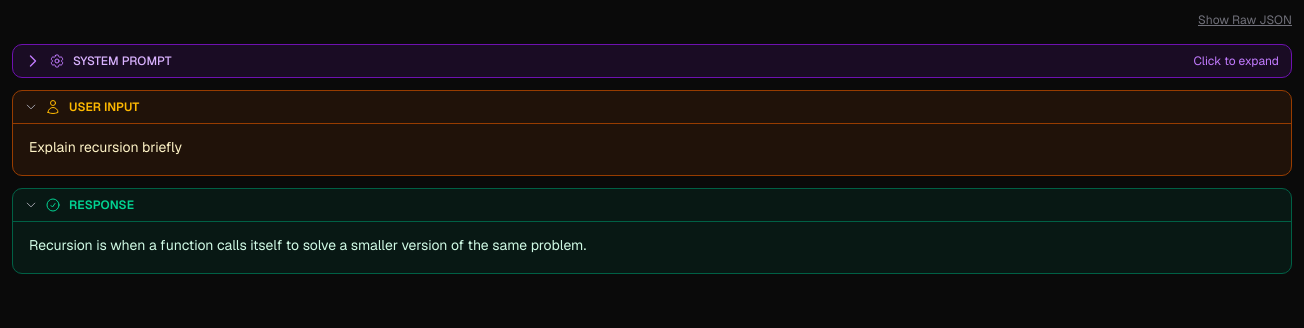
Test: MessageRenderer › UI interactions › expands system prompt on click
Click the text "System Prompt".
click(122, 61)  # box x1=73 y1=53 x2=172 y2=69
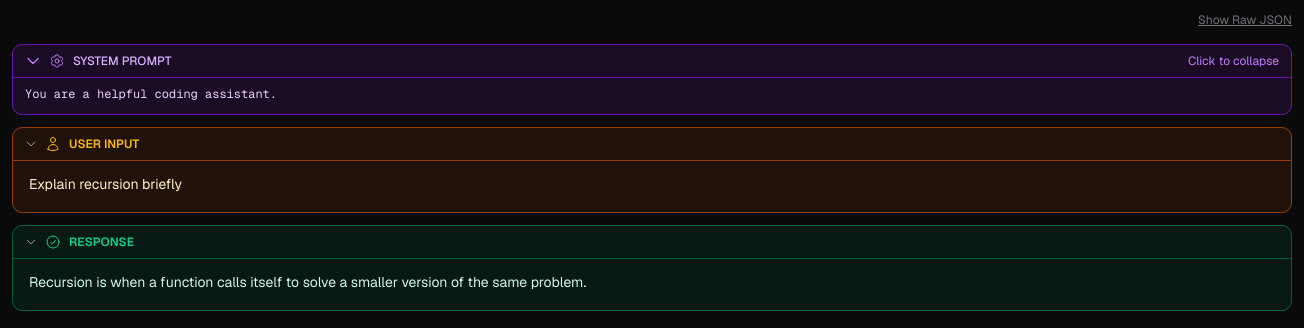
expect the text "You are a helpful coding assistant." is shown: met, box x1=25 y1=86 x2=277 y2=102
